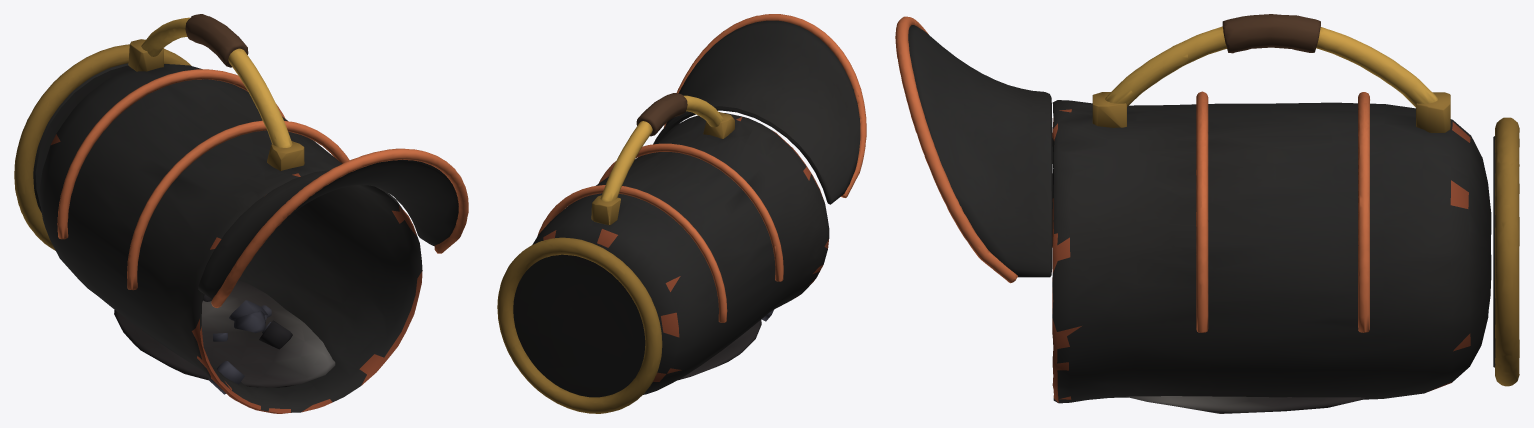
The model's file is ember_coal_scuttle.glb.
The picture shows the model from 3 angles, left to right: view 1: azimuth 30°, elevation 25°; view 2: azimuth 150°, elevation 25°; view 3: azimuth 270°, elevation 25°; orthographic projection. The views are drawn at different scales.
Visible parts, largest first — view 1: ember_coal_scuttle; view 2: ember_coal_scuttle; view 3: ember_coal_scuttle.
Part boxes in pixels (x1=…): ember_coal_scuttle: x1=14, y1=14, x2=468, y2=413; ember_coal_scuttle: x1=497, y1=14, x2=866, y2=413; ember_coal_scuttle: x1=895, y1=14, x2=1519, y2=413.
Bounding box in the file's own units: 27.84 × 35.53 × 54.03.
